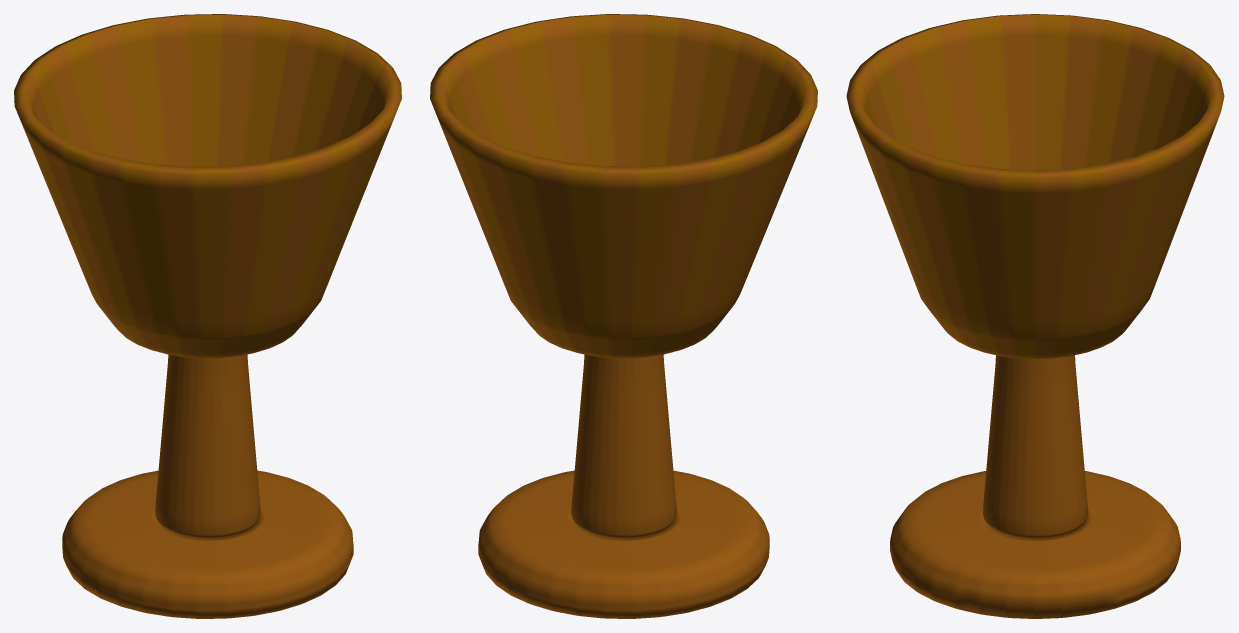
3 views of the same model, side by side, from view 1: azimuth 30°, elevation 25°; view 2: azimuth 150°, elevation 25°; view 3: azimuth 270°, elevation 25° (orthographic).
Visible parts, largest first — view 1: Cylinder; view 2: Cylinder; view 3: Cylinder.
Boxes of the visible parts, box(x1,y1,x2,y2) form: Cylinder: box(14, 14, 401, 618); Cylinder: box(430, 14, 817, 618); Cylinder: box(846, 14, 1224, 618).
Size of the model in its own units: 371 by 488 by 358.
